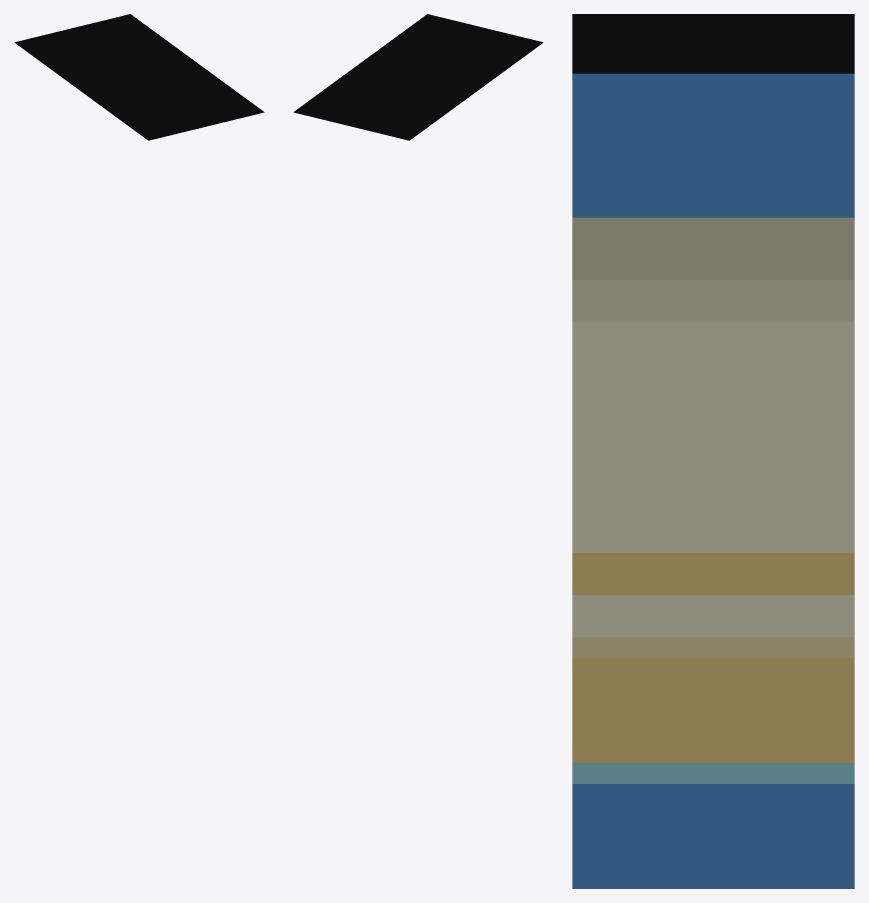
The picture shows the model from 3 angles, left to right: view 1: azimuth 30°, elevation 25°; view 2: azimuth 150°, elevation 25°; view 3: azimuth 270°, elevation 25°; orthographic projection. The views are drawn at different scales.
Size of the model in its own units: 0.5 by 3.19 by 1.
2 materials, 2 textured.
